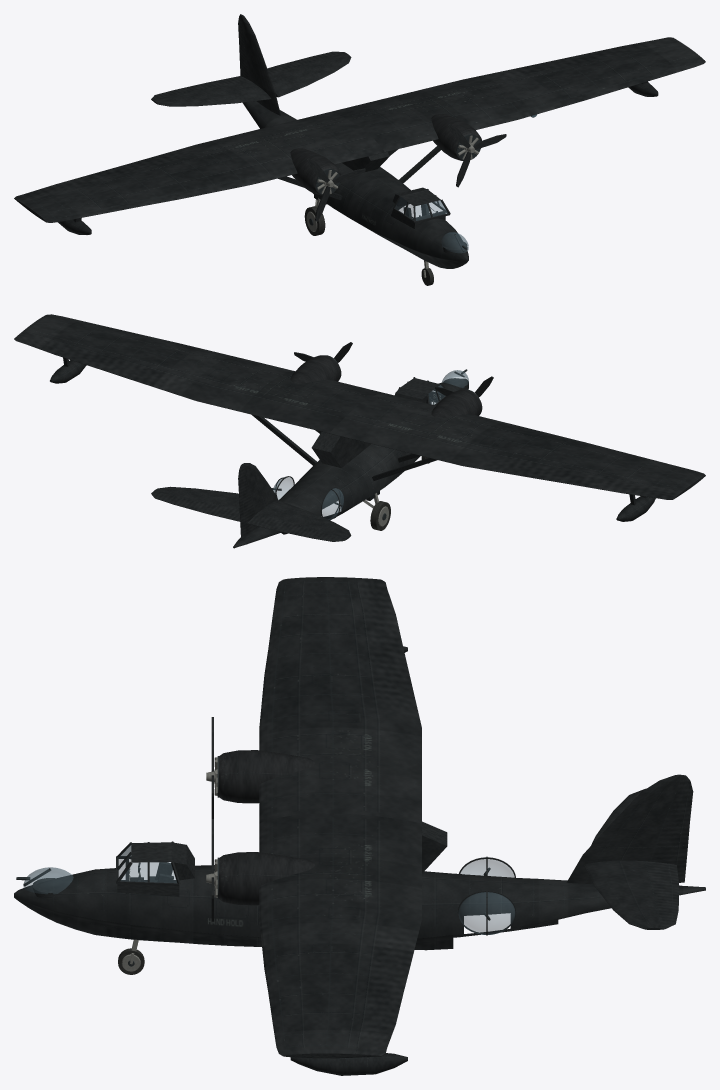
Rendered from pby5a-blackcat-own.glb.
3 views of the same model, one above another, from view 1: azimuth 30°, elevation 25°; view 2: azimuth 150°, elevation 25°; view 3: azimuth 270°, elevation 25° (orthographic). The views are drawn at different scales.
Visible parts, largest first — view 1: ParasolWing, SteppedFlyingBoatHull, HorizontalStabilizer, VerticalStabilizer, NoseTurretAndGlazingFrames, AileronLeft, AileronRight, CanopyAndNoseTurretGlazing, NacelleLeft, WingPylonAndStruts, NacelleRight, PropellerLeft (+4 smaller); view 2: ParasolWing, SteppedFlyingBoatHull, HorizontalStabilizer, WingPylonAndStruts, AileronLeft, AileronRight, NacelleLeft, NacelleRight, ElevatorLeft, ElevatorRight, VerticalStabilizer, NoseTurretAndGlazingFrames (+6 smaller); view 3: ParasolWing, SteppedFlyingBoatHull, VerticalStabilizer, HorizontalStabilizer, AileronRight, NacelleLeft, NacelleRight, NoseTurretAndGlazingFrames, AileronLeft, Rudder, CanopyAndNoseTurretGlazing, FloatRight (+4 smaller).
Part boxes in pixels (x1=…): ParasolWing: x1=23, y1=42, x2=705, y2=222; SteppedFlyingBoatHull: x1=243, y1=101, x2=468, y2=268; HorizontalStabilizer: x1=153, y1=53, x2=351, y2=106; VerticalStabilizer: x1=240, y1=15, x2=280, y2=115; NoseTurretAndGlazingFrames: x1=391, y1=187, x2=467, y2=254; AileronLeft: x1=14, y1=163, x2=143, y2=205; AileronRight: x1=537, y1=37, x2=681, y2=69; CanopyAndNoseTurretGlazing: x1=395, y1=197, x2=468, y2=252; NacelleLeft: x1=290, y1=148, x2=340, y2=195; WingPylonAndStruts: x1=278, y1=146, x2=440, y2=200; NacelleRight: x1=431, y1=114, x2=481, y2=160; PropellerLeft: x1=306, y1=158, x2=365, y2=221; ParasolWing: x1=23, y1=314, x2=705, y2=493; SteppedFlyingBoatHull: x1=233, y1=378, x2=468, y2=548; HorizontalStabilizer: x1=154, y1=486, x2=351, y2=539; WingPylonAndStruts: x1=252, y1=415, x2=437, y2=480; AileronLeft: x1=536, y1=465, x2=681, y2=499; AileronRight: x1=14, y1=331, x2=143, y2=379; NacelleLeft: x1=431, y1=389, x2=482, y2=417; NacelleRight: x1=290, y1=355, x2=341, y2=383; ElevatorLeft: x1=247, y1=513, x2=346, y2=541; ElevatorRight: x1=151, y1=491, x2=240, y2=521; VerticalStabilizer: x1=241, y1=463, x2=277, y2=528; NoseTurretAndGlazingFrames: x1=394, y1=369, x2=467, y2=405; ParasolWing: x1=259, y1=577, x2=421, y2=1058; SteppedFlyingBoatHull: x1=14, y1=865, x2=705, y2=950; VerticalStabilizer: x1=566, y1=774, x2=682, y2=883; HorizontalStabilizer: x1=584, y1=788, x2=659, y2=929; AileronRight: x1=355, y1=962, x2=409, y2=1057; NacelleLeft: x1=219, y1=750, x2=314, y2=803; NacelleRight: x1=219, y1=852, x2=314, y2=905; NoseTurretAndGlazingFrames: x1=16, y1=841, x2=194, y2=899; AileronLeft: x1=355, y1=578, x2=409, y2=674; Rudder: x1=653, y1=775, x2=693, y2=882; CanopyAndNoseTurretGlazing: x1=23, y1=844, x2=176, y2=893; FloatRight: x1=290, y1=1053, x2=407, y2=1075.
Size of the model in its own units: 31.7 by 6.15 by 19.46.
2 materials, 2 textured.
